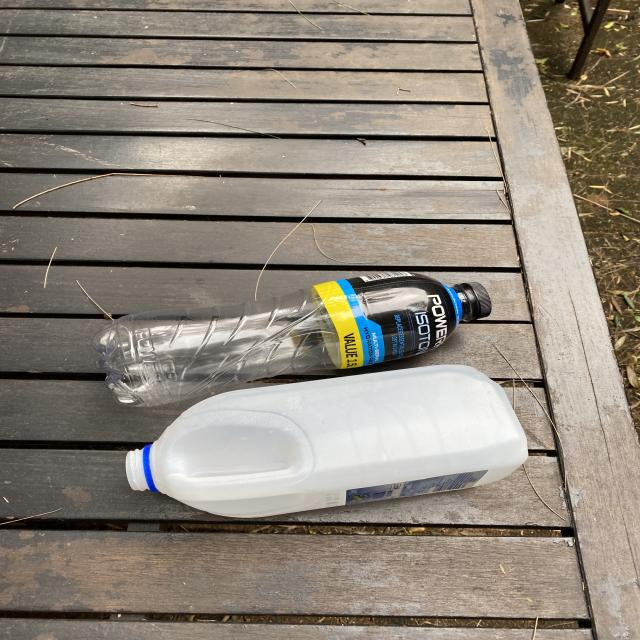bottle: (124, 366, 528, 518), (94, 271, 494, 407)
